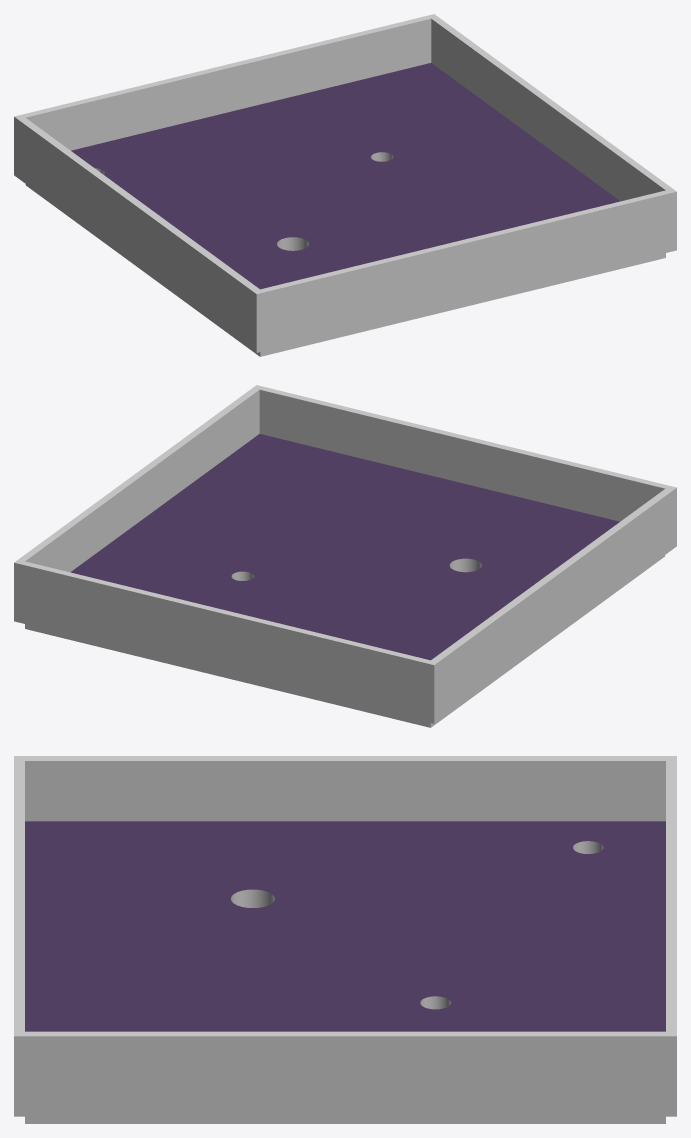
File: maze3.fbx
3 views of the same model, one above another, from view 1: azimuth 30°, elevation 25°; view 2: azimuth 150°, elevation 25°; view 3: azimuth 270°, elevation 25° (orthographic). The views are drawn at different scales.
Visible parts, largest first — view 1: Model; view 2: Model; view 3: Model.
Boxes of the visible parts, left/top/right/bottom form: Model: left=14, top=14, right=676, bottom=356; Model: left=14, top=385, right=676, bottom=727; Model: left=14, top=756, right=676, bottom=1123.
Bounding box in the file's own units: 3600 × 553 × 3600.
